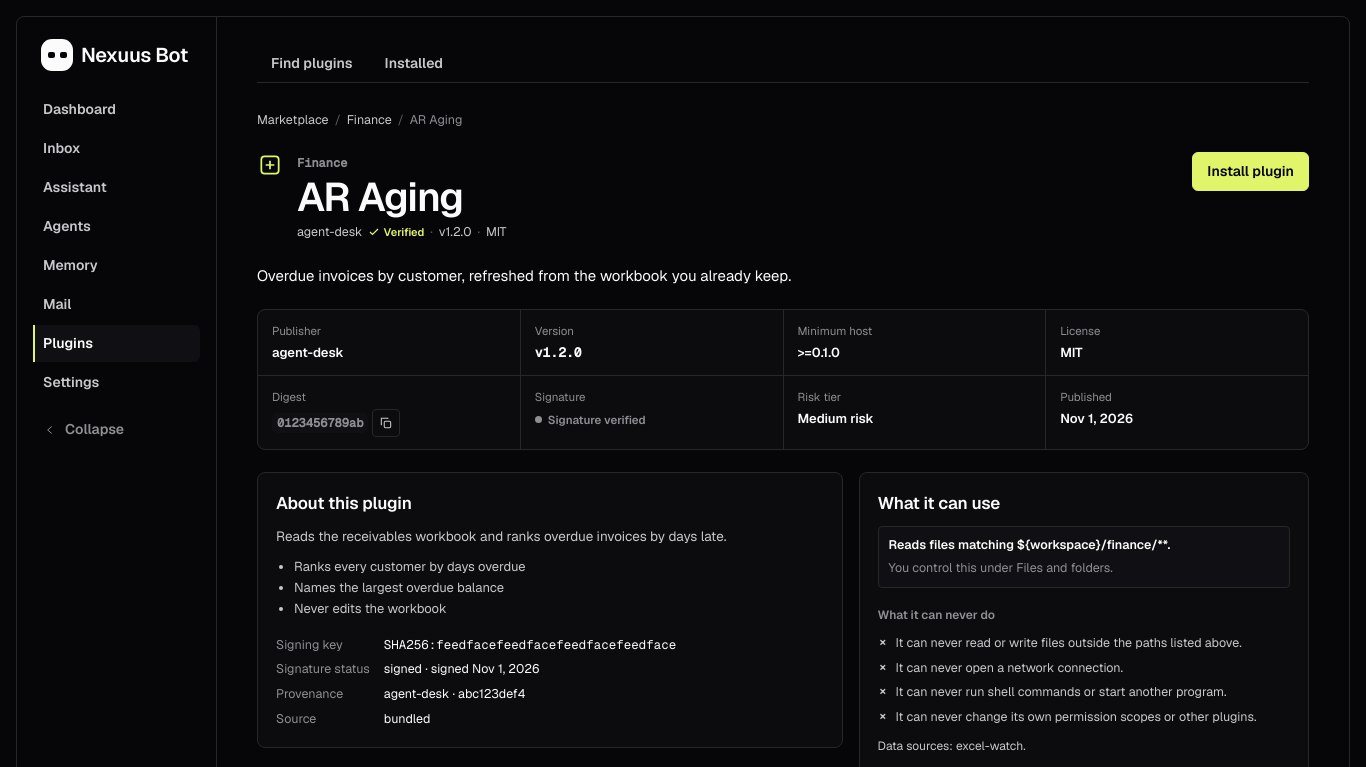
Test case: the digest copy control › takes the manual path when the clipboard API is missing
Step 1. Click the button named "Copy digest" → [386, 423], box [372,409,400,437]
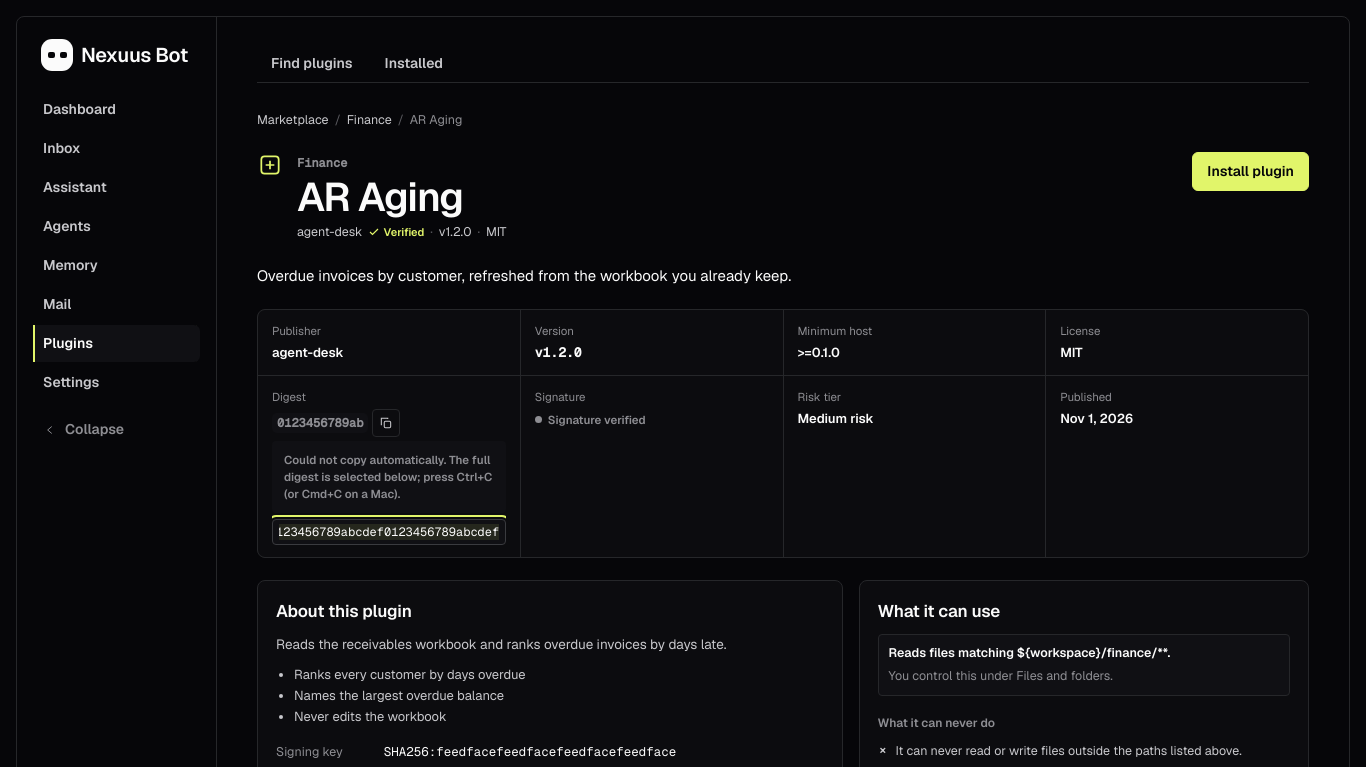
Expected: the text "Could not copy automatically. The full digest is selected below; press Ctrl+C (or Cmd+C on a Mac)." is shown, [284,452,492,501]
Expected: the field named "Full digest" holds "sha256:0123456789abcdef0123456789abcdef0123456789abcdef0123456789abcdef", [272,518,506,544]
